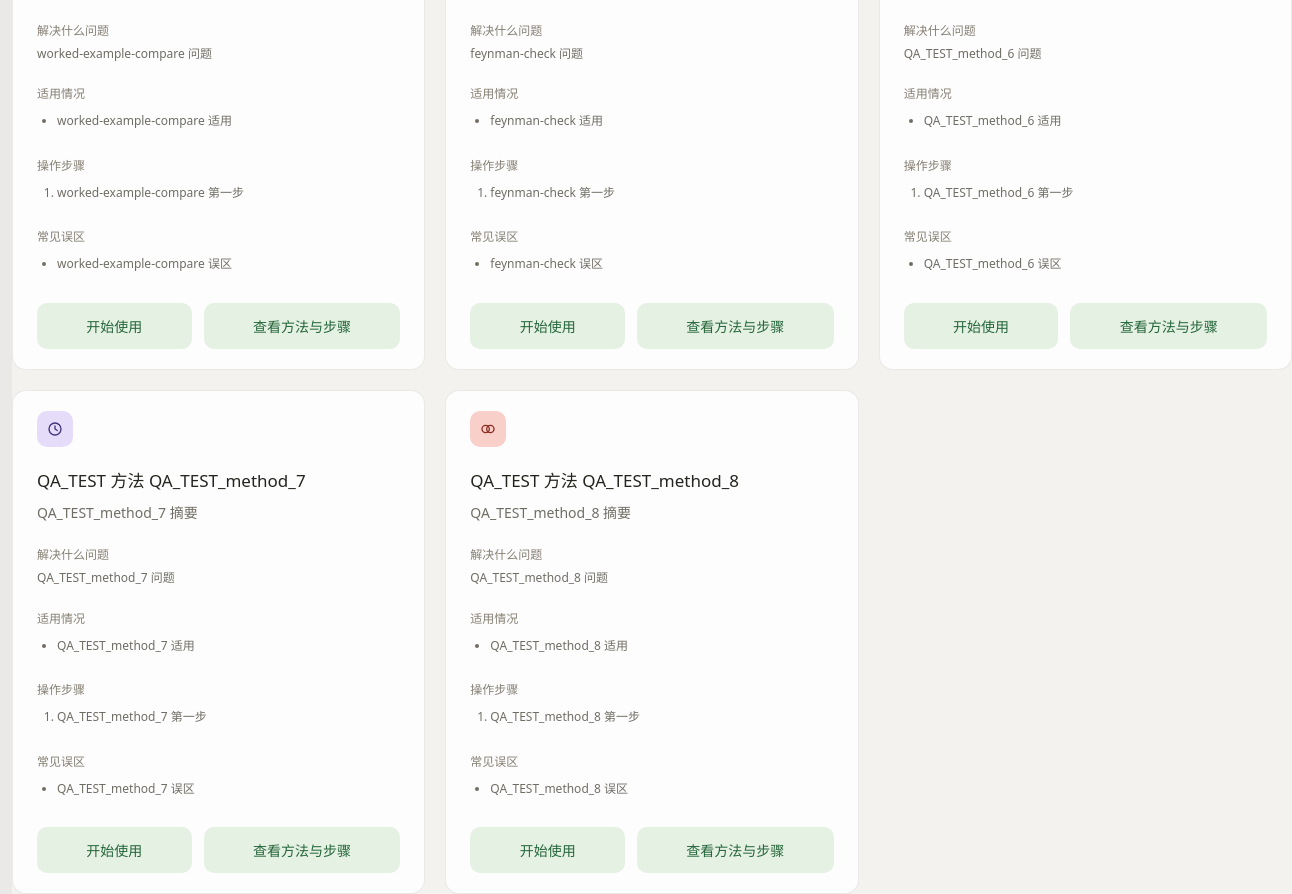
Test case: data-driven method catalog › opens any method detail, including a newly appended one, with all server fields
The image size is (1292, 894).
(page scrolled)
Click the button "查看方法与步骤" below "QA_TEST_method_8 误区" at [735, 850], box [637, 828, 834, 874]
(page scrolled)
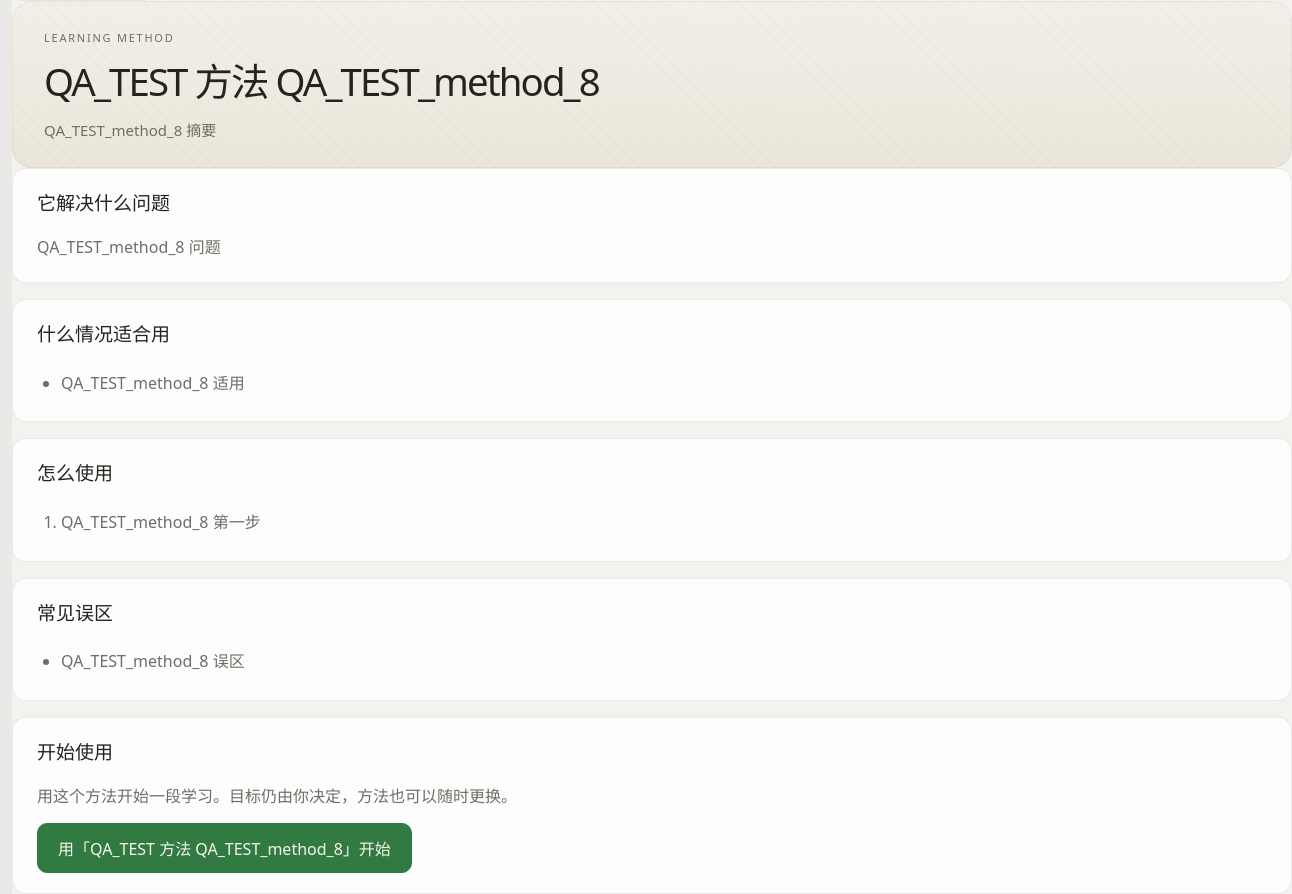
Expected: the text "QA_TEST_method_8 问题" is shown, [37, 236, 221, 258]
Now the heading "QA_TEST 方法 QA_TEST_method_8" is shown, box [44, 55, 599, 107]
Now the heading "它解决什么问题" is shown, box [37, 190, 170, 216]
